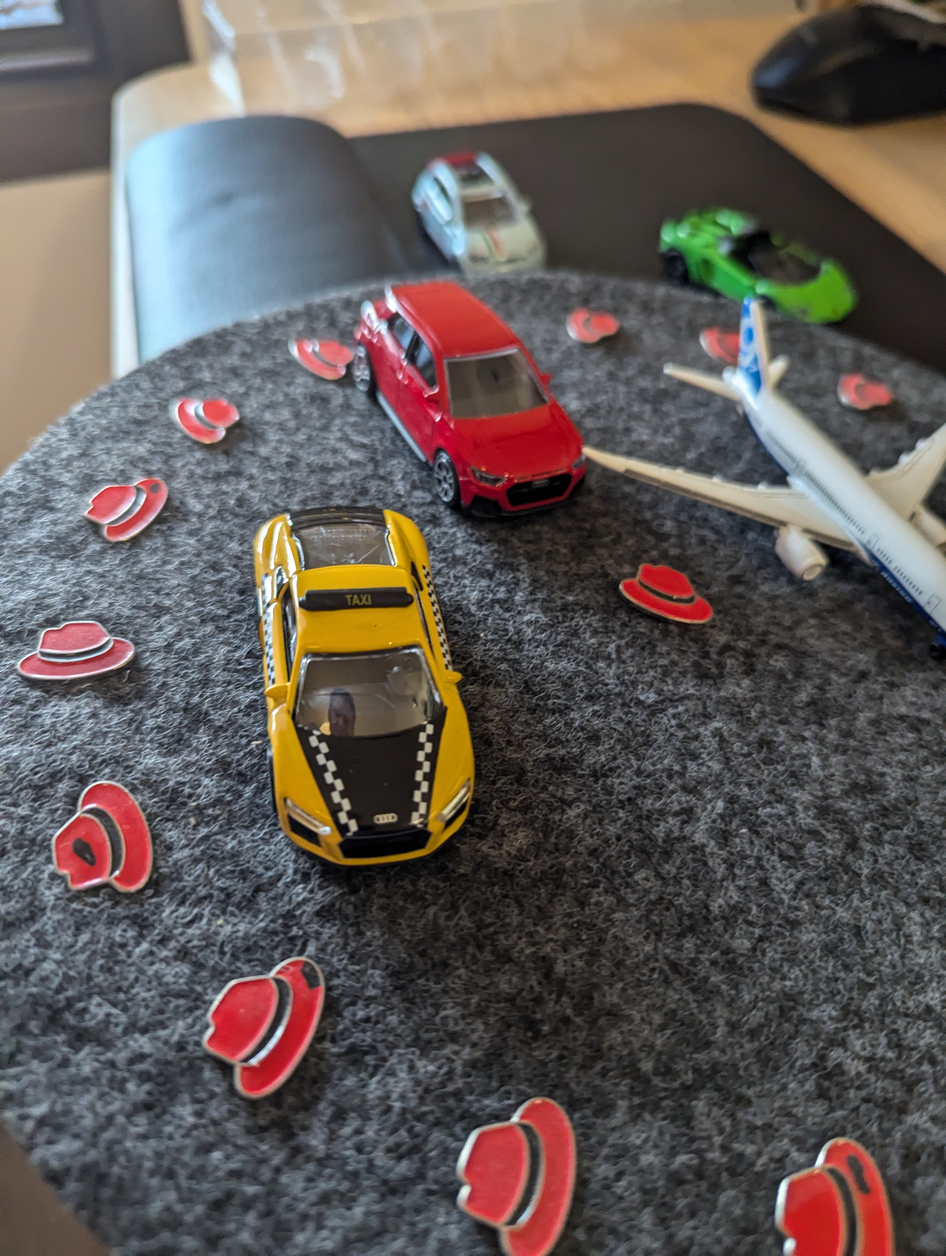Airplane: (562, 284, 946, 680)
Car: (227, 478, 515, 908), (340, 282, 606, 522), (644, 188, 889, 341), (399, 132, 568, 301), (688, 321, 758, 371)
Red-Hat: (185, 930, 364, 1126), (440, 1071, 595, 1256), (763, 1117, 907, 1256), (36, 766, 162, 912), (67, 468, 200, 553), (7, 611, 142, 692), (614, 553, 725, 636), (270, 328, 368, 395), (165, 385, 248, 460), (559, 294, 627, 365), (822, 358, 897, 414)
Scratch: (835, 1145, 887, 1208), (63, 825, 114, 876), (292, 956, 333, 999), (144, 480, 168, 503)
